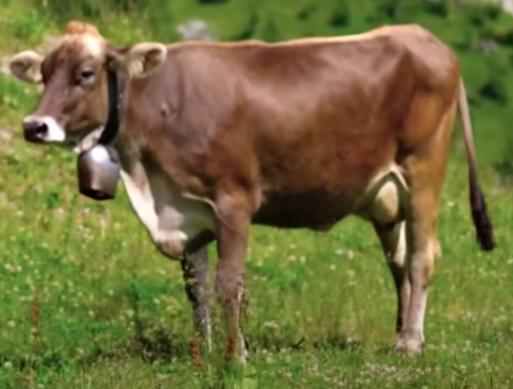cow: (11, 28, 461, 366)
